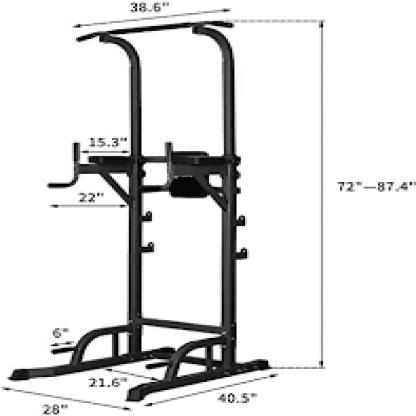chinning dipping: (12, 19, 269, 401)
